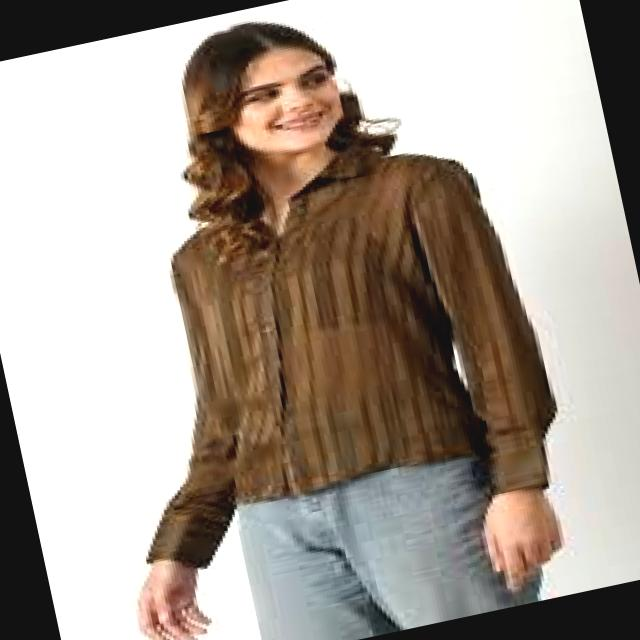face: (231, 47, 343, 159)
lower-wear: (237, 455, 543, 639)
top-wear: (146, 145, 558, 567)
